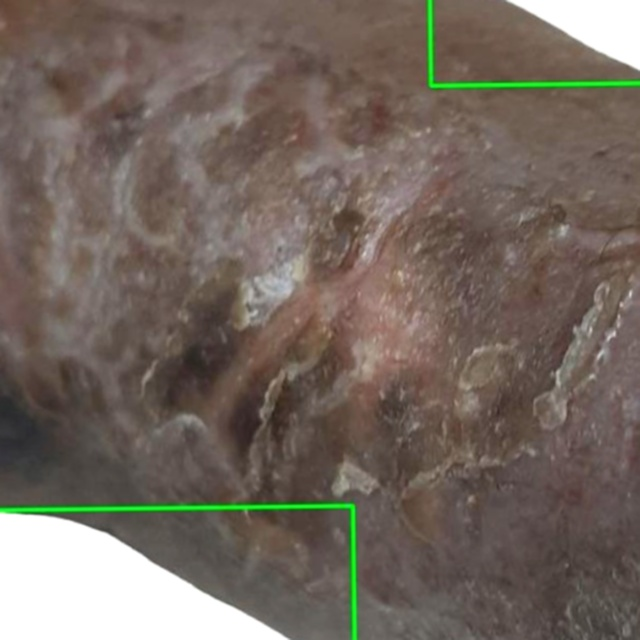Eczema: (0, 505, 354, 639), (429, 0, 639, 85)
